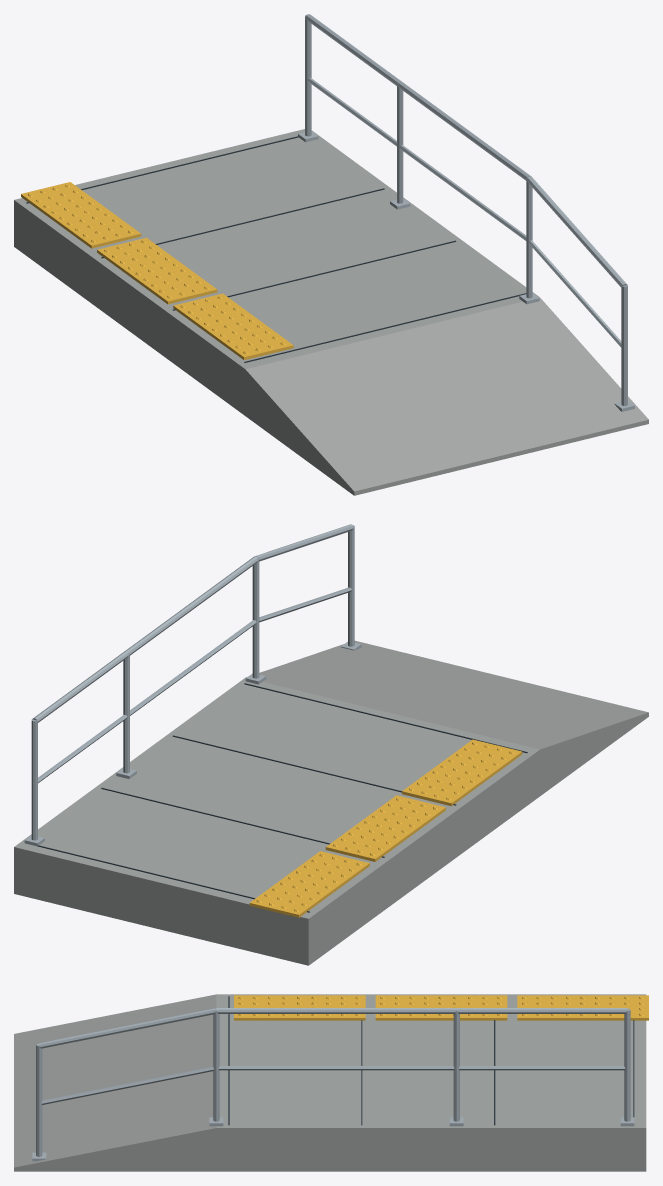
Rendered from b13_low_station_platform_with_access_ramp.glb.
3 renders of one model, top to bottom at view 1: azimuth 30°, elevation 25°; view 2: azimuth 150°, elevation 25°; view 3: azimuth 270°, elevation 25°, orthographic. The views are drawn at different scales.
Visible parts, largest first — view 1: b13_low_station_platform_with_access_ramp; view 2: b13_low_station_platform_with_access_ramp; view 3: b13_low_station_platform_with_access_ramp.
Boxes of the visible parts, x1,y1,x2,y2 form: b13_low_station_platform_with_access_ramp: (14,14,648,495); b13_low_station_platform_with_access_ramp: (14,524,648,965); b13_low_station_platform_with_access_ramp: (14,994,648,1171).
Bounding box in the file's own units: 2.5 × 1.38 × 5.02.
